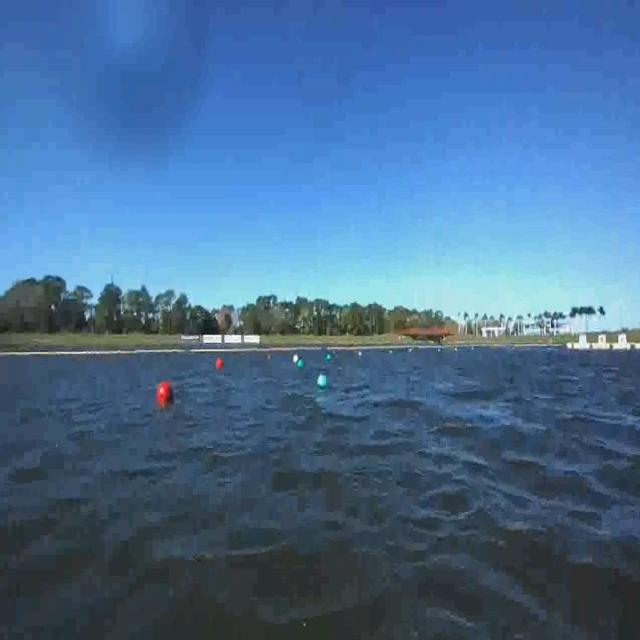green-buoy: (317, 374, 328, 390), (297, 359, 303, 369)
red-buoy: (157, 380, 174, 404), (216, 358, 224, 369)
